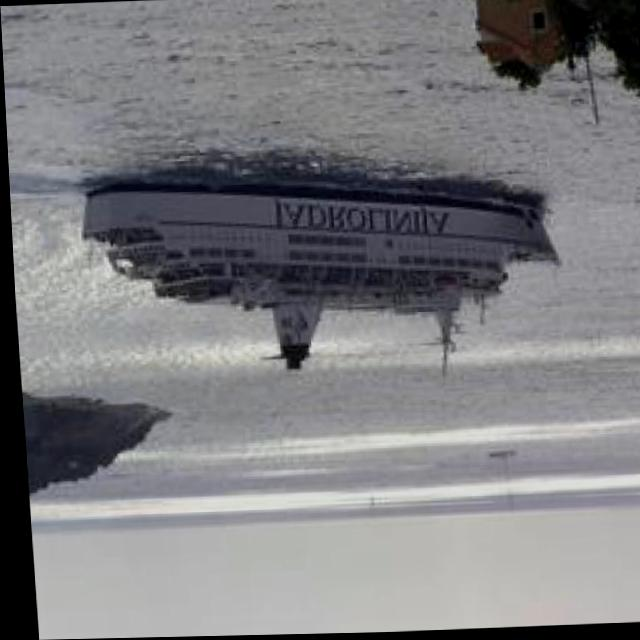ship2: (76, 180, 558, 378)
